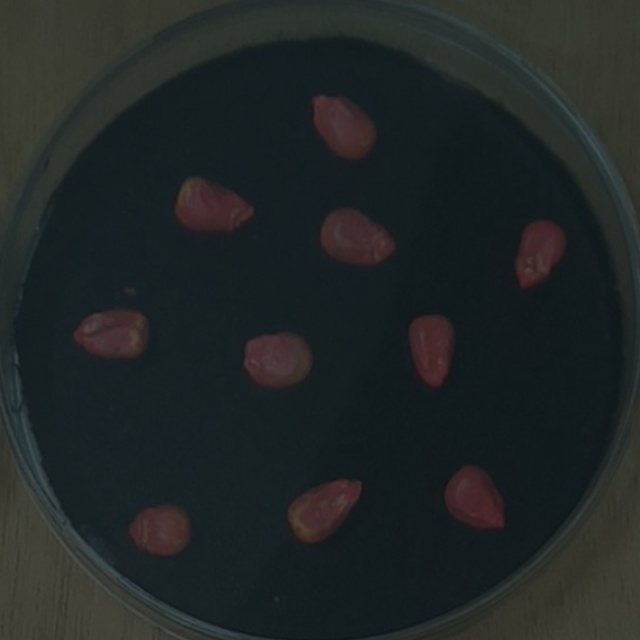Zea mays: (278, 471, 370, 553), (312, 199, 404, 275), (302, 83, 385, 167), (166, 167, 261, 238), (66, 299, 157, 367), (235, 323, 320, 395), (437, 457, 512, 538), (507, 210, 575, 297), (399, 307, 463, 396), (120, 496, 198, 566)
